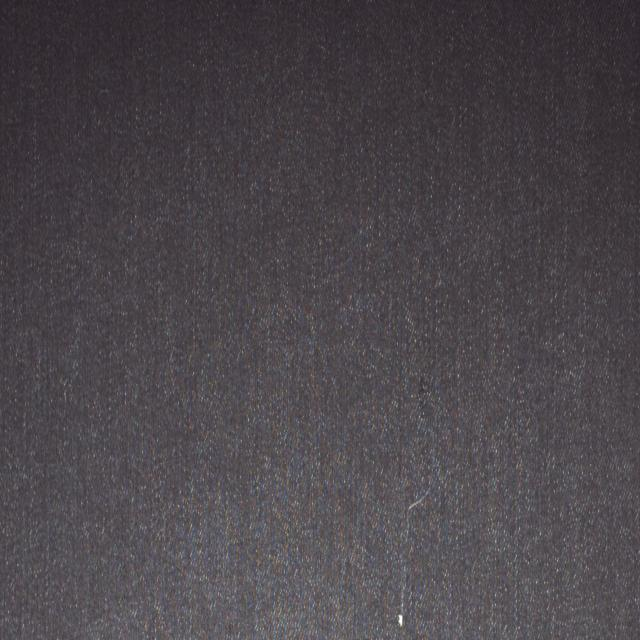Knot: (397, 607, 405, 628)
